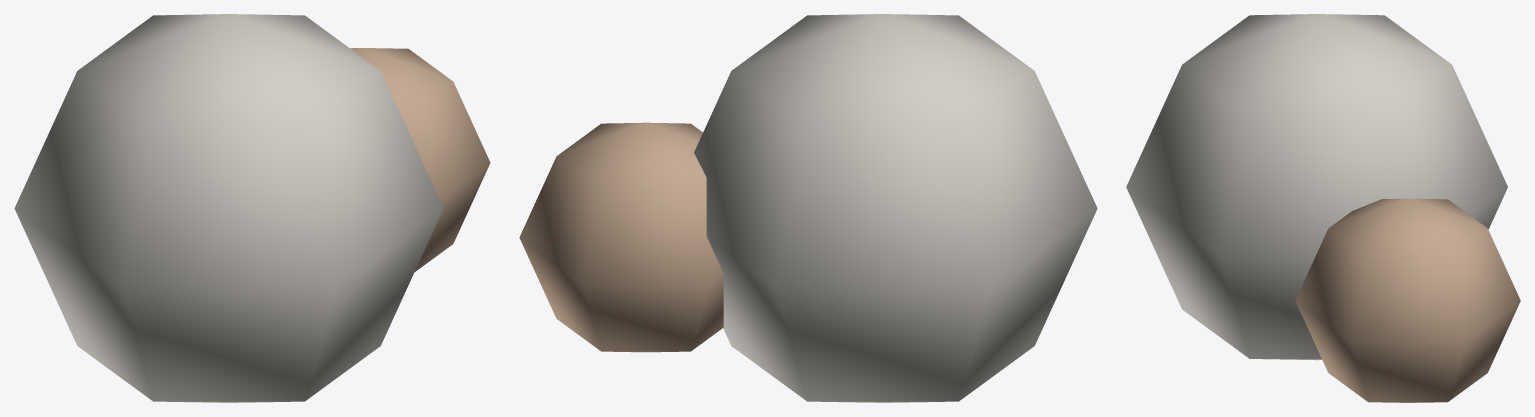
File: rock.glb
3 renders of one model, left to right at view 1: azimuth 30°, elevation 25°; view 2: azimuth 150°, elevation 25°; view 3: azimuth 270°, elevation 25°, orthographic. The views are drawn at different scales.
Visible parts, largest first — view 1: rock_stone, rock_dark; view 2: rock_stone, rock_dark; view 3: rock_stone, rock_dark.
Boxes of the visible parts, x1=… form: rock_stone: x1=14, y1=14, x2=443, y2=402; rock_dark: x1=350, y1=48, x2=490, y2=272; rock_stone: x1=694, y1=14, x2=1097, y2=402; rock_dark: x1=519, y1=122, x2=723, y2=352; rock_stone: x1=1126, y1=14, x2=1507, y2=360; rock_dark: x1=1295, y1=198, x2=1520, y2=402.
Size of the model in its own units: 0.8321 by 0.7 by 0.7233.
